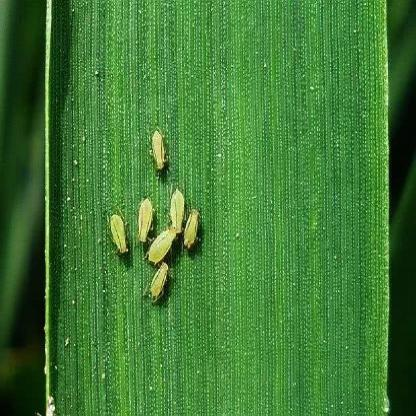aphid: (101, 208, 129, 270), (148, 221, 176, 271), (145, 255, 170, 310), (150, 124, 172, 182), (131, 190, 153, 245), (164, 189, 185, 239), (184, 204, 204, 255)
